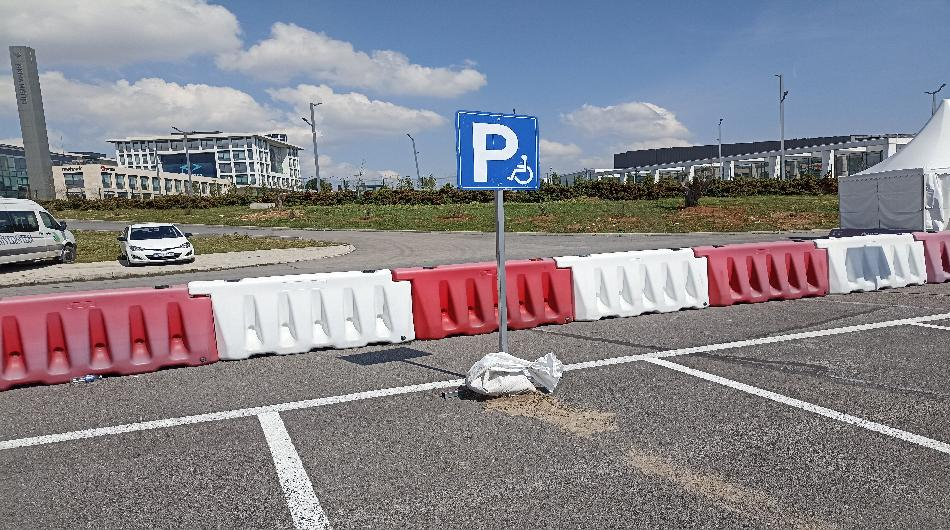engelli_park: (454, 107, 539, 190)
